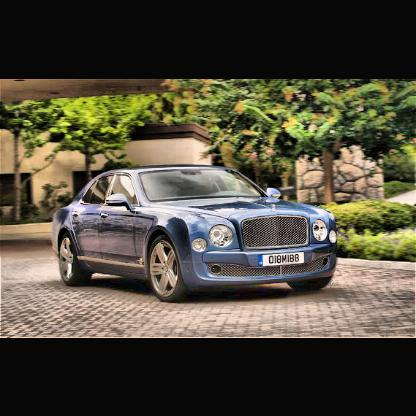Bentley Mulsanne Sedan 2011: (52, 163, 340, 303)
